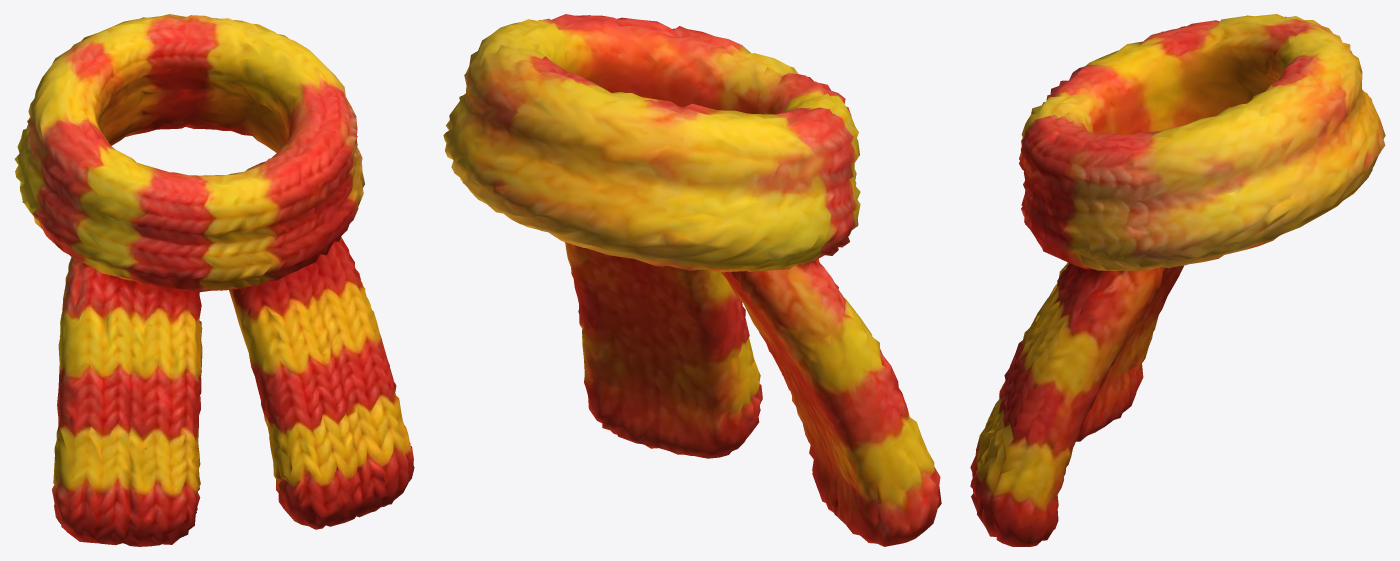
Rendered from cs-scarf.glb.
The picture shows the model from 3 angles, left to right: view 1: azimuth 30°, elevation 25°; view 2: azimuth 150°, elevation 25°; view 3: azimuth 270°, elevation 25°; orthographic projection. The views are drawn at different scales.
Parts seen in each view (by area): view 1: tripo_node_5be676d7-f6a9-4536-bd5a-2a1c3f62efaf; view 2: tripo_node_5be676d7-f6a9-4536-bd5a-2a1c3f62efaf; view 3: tripo_node_5be676d7-f6a9-4536-bd5a-2a1c3f62efaf.
Boxes of the visible parts, left/top/right/bottom form: tripo_node_5be676d7-f6a9-4536-bd5a-2a1c3f62efaf: left=14, top=14, right=414, bottom=546; tripo_node_5be676d7-f6a9-4536-bd5a-2a1c3f62efaf: left=443, top=14, right=941, bottom=546; tripo_node_5be676d7-f6a9-4536-bd5a-2a1c3f62efaf: left=970, top=14, right=1385, bottom=546.
Bounding box in the file's own units: 0.8396 × 1 × 0.8351.
Materials: 1 (1 with a texture image).
